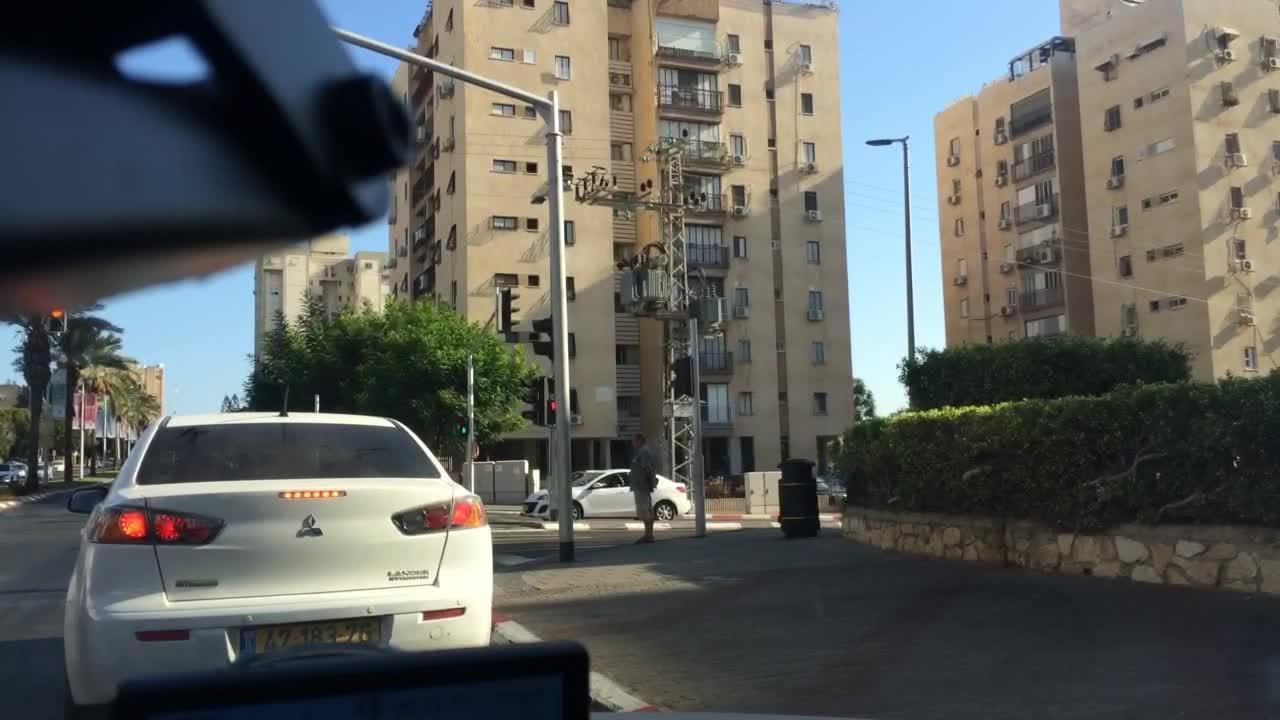Mitsubishi: (295, 512, 326, 543)
